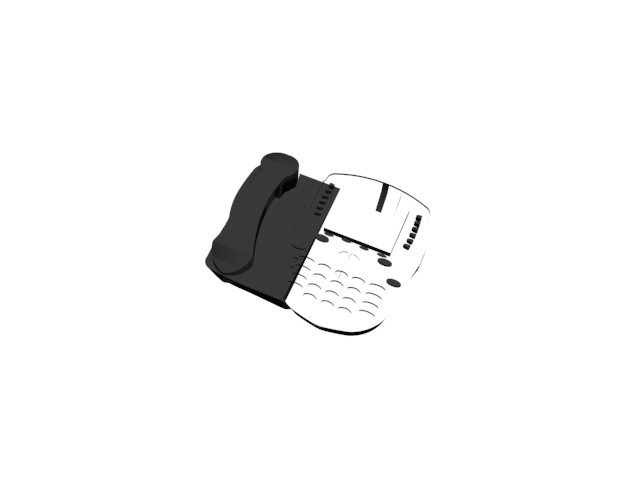phone: (201, 153, 432, 338)
